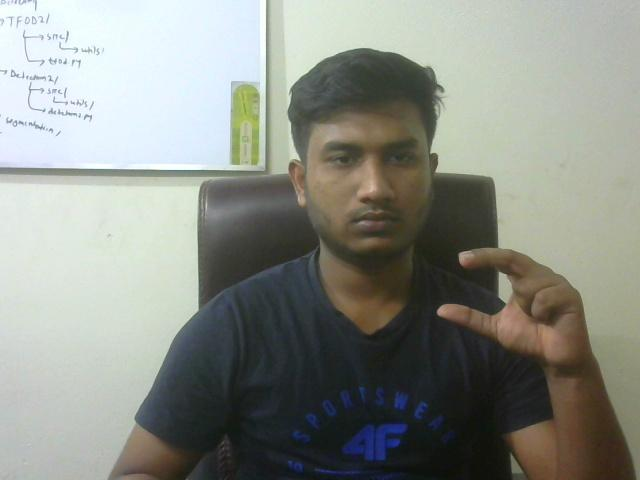No: (432, 226, 617, 379)
